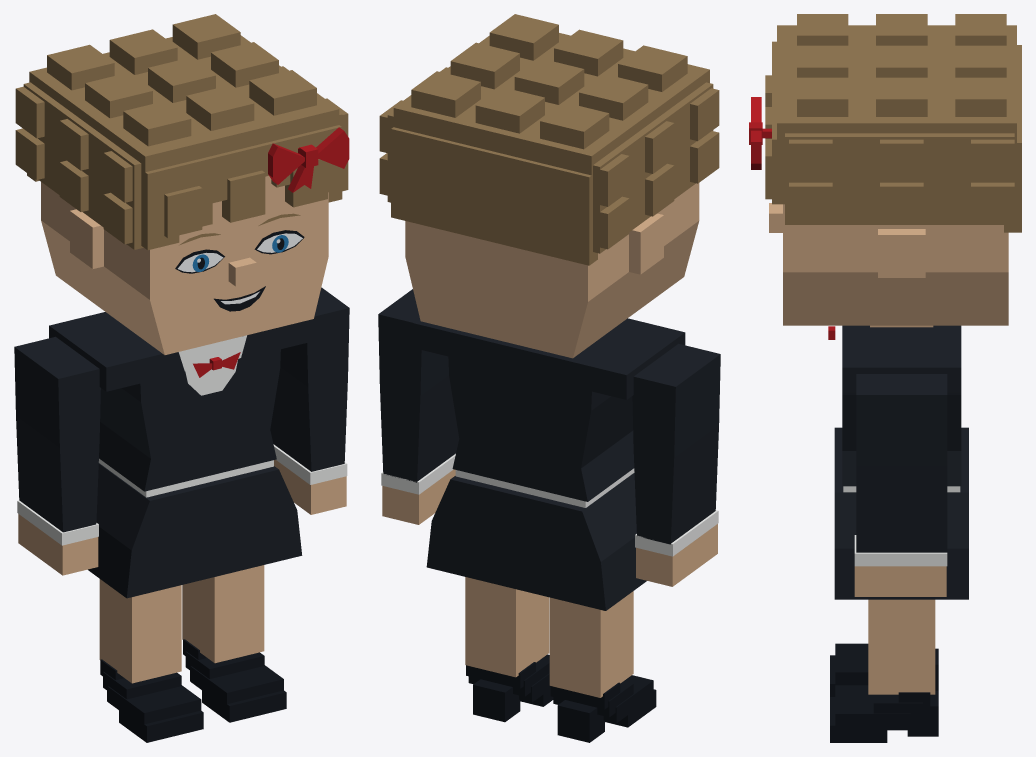
Rendered from female_curly.glb.
3 renders of one model, left to right at view 1: azimuth 30°, elevation 25°; view 2: azimuth 150°, elevation 25°; view 3: azimuth 270°, elevation 25°, orthographic. The views are drawn at different scales.
Parts seen in each view (by area): view 1: char_hair_visual, char_torso_visual, char_head_visual, char_arm_negx_visual, char_leg_negx_visual, char_leg_posx_visual, char_arm_posx_visual, char_bow_visual, char_hand_negx_visual, char_hand_posx_visual, char_eye_posx_visual, char_eye_negx_visual; view 2: char_hair_visual, char_torso_visual, char_head_visual, char_arm_negx_visual, char_arm_posx_visual, char_leg_negx_visual, char_leg_posx_visual, char_hand_negx_visual, char_hand_posx_visual; view 3: char_hair_visual, char_head_visual, char_arm_posx_visual, char_torso_visual, char_leg_posx_visual, char_hand_posx_visual, char_leg_negx_visual, char_bow_visual.
Part boxes in pixels (left/top/right/bottom): char_hair_visual: left=15, top=14, right=348, bottom=250; char_torso_visual: left=49, top=312, right=314, bottom=598; char_head_visual: left=41, top=176, right=328, bottom=354; char_arm_negx_visual: left=14, top=336, right=100, bottom=545; char_leg_negx_visual: left=99, top=579, right=203, bottom=742; char_leg_posx_visual: left=182, top=565, right=286, bottom=722; char_arm_posx_visual: left=270, top=287, right=349, bottom=484; char_bow_visual: left=268, top=127, right=349, bottom=192; char_hand_negx_visual: left=18, top=514, right=98, bottom=575; char_hand_posx_visual: left=274, top=459, right=346, bottom=514; char_eye_posx_visual: left=254, top=230, right=304, bottom=254; char_eye_negx_visual: left=175, top=249, right=224, bottom=273; char_hair_visual: left=379, top=14, right=719, bottom=265; char_torso_visual: left=413, top=318, right=685, bottom=610; char_head_visual: left=405, top=183, right=699, bottom=358; char_arm_negx_visual: left=632, top=343, right=720, bottom=556; char_arm_posx_visual: left=378, top=289, right=459, bottom=494; char_leg_negx_visual: left=549, top=591, right=656, bottom=742; char_leg_posx_visual: left=465, top=577, right=553, bottom=722; char_hand_negx_visual: left=636, top=524, right=717, bottom=586; char_hand_posx_visual: left=382, top=469, right=455, bottom=524; char_hair_visual: left=765, top=14, right=1021, bottom=232; char_head_visual: left=769, top=203, right=1008, bottom=327; char_arm_posx_visual: left=854, top=374, right=947, bottom=566; char_torso_visual: left=828, top=325, right=968, bottom=599; char_leg_posx_visual: left=830, top=599, right=938, bottom=742; char_hand_posx_visual: left=854, top=566, right=946, bottom=596; char_leg_negx_visual: left=830, top=643, right=938, bottom=696; char_bow_visual: left=749, top=97, right=771, bottom=169.
Bounding box in the file's own units: 0.88 × 1.82 × 0.6895.
